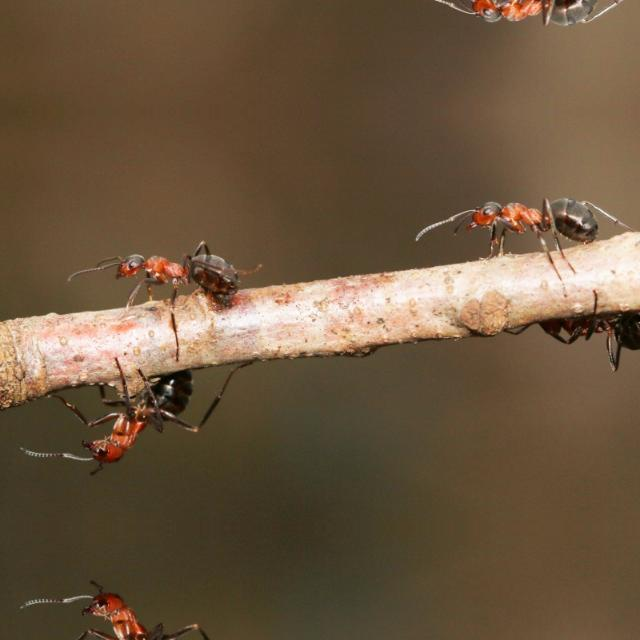Formica: (56, 338, 216, 472), (89, 214, 247, 320), (410, 178, 614, 255), (56, 582, 214, 640), (408, 0, 614, 44)
